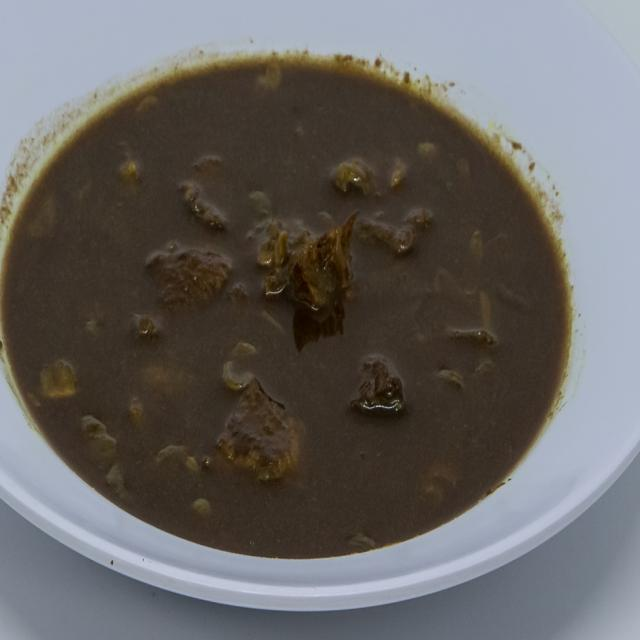Rawon-Surabaya: (6, 41, 581, 555)
